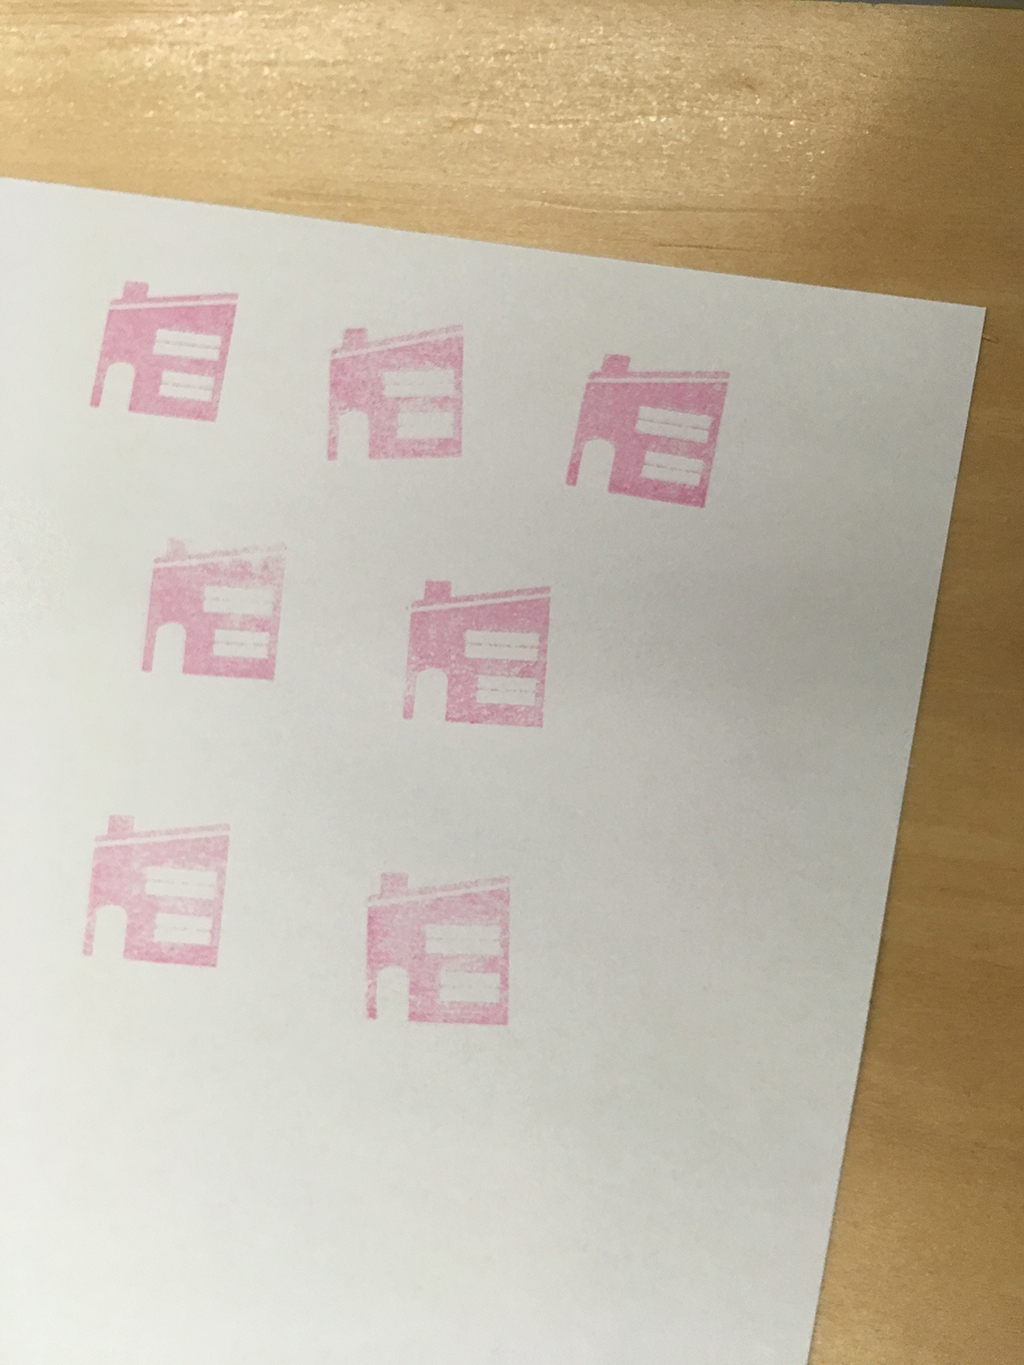house: (544, 335, 740, 517), (390, 565, 568, 758), (354, 851, 529, 1047), (79, 796, 247, 989), (129, 521, 301, 693), (71, 262, 244, 433), (310, 305, 478, 474)
